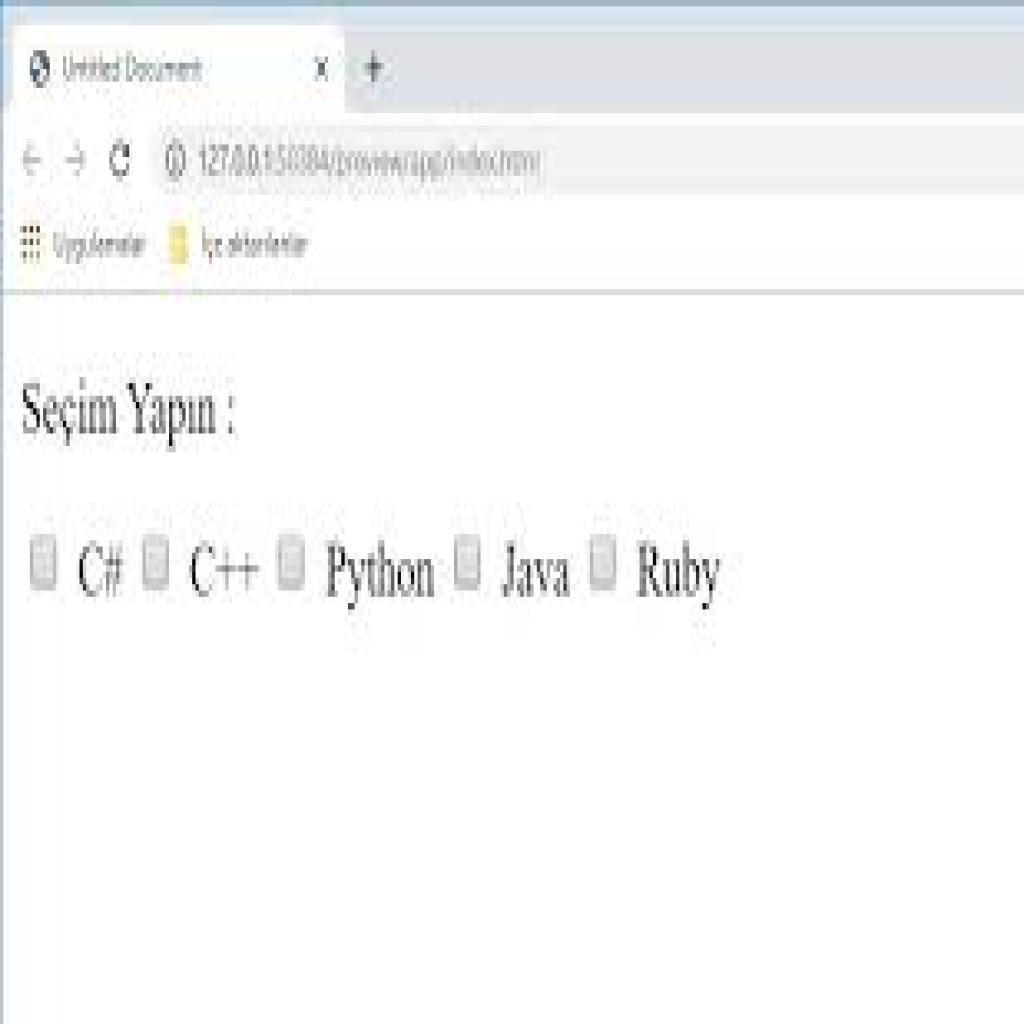checkbox: (275, 536, 307, 587), (453, 539, 483, 593), (143, 537, 173, 590), (590, 540, 619, 589), (29, 537, 56, 588)
input: (636, 539, 723, 609)
label: (323, 540, 435, 611), (494, 537, 573, 605), (187, 540, 261, 597), (73, 537, 127, 598)
